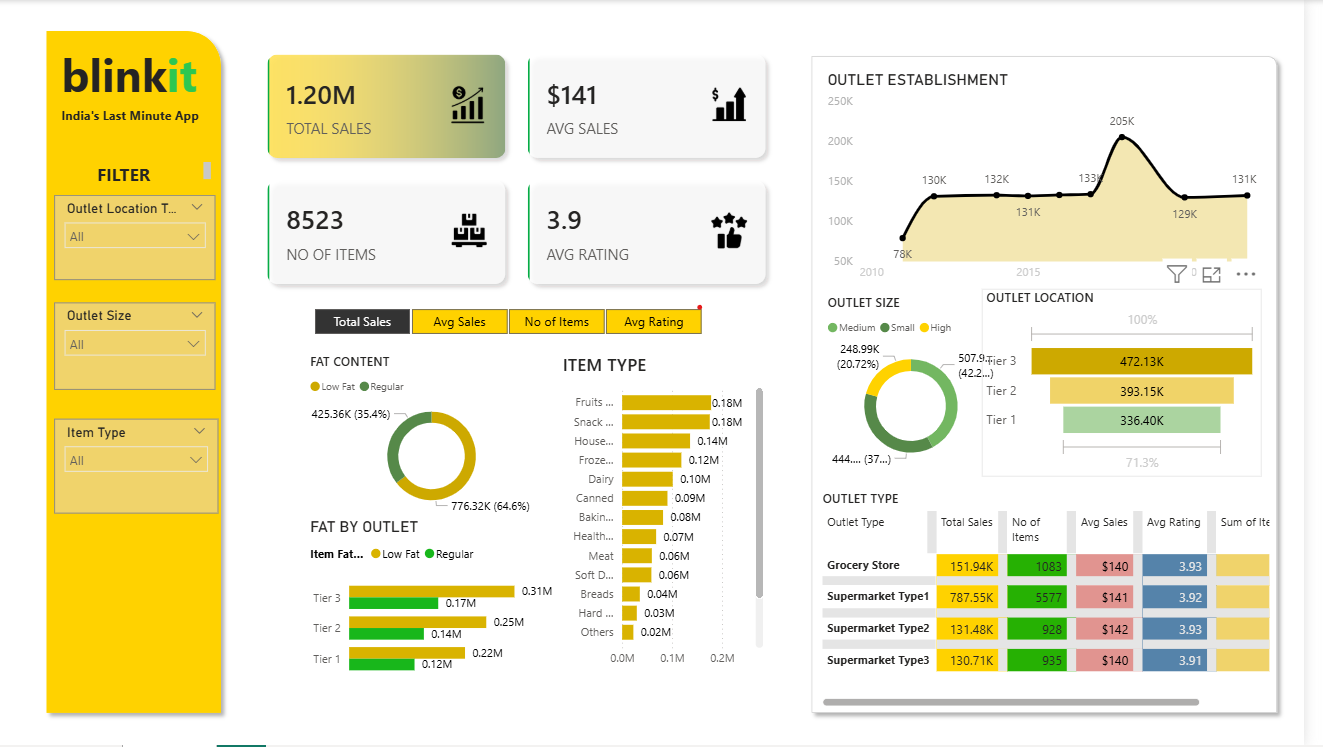

The page's visual inventory and layout, read from the dashboard file:
{"tool":"powerbi","page":{"name":"Page 1","canvas":[1400,800],"ordinal":0},"visuals":[{"type":"shape","box":[42.9,24.1,205.1,749.3],"z":0},{"type":"textbox","box":[63,41.6,172.9,115.3],"z":1000},{"type":"textbox","box":[63,109.9,172.9,30.8],"z":2000},{"type":"cardVisual","fields":{"Data":["BlinkIT Grocery Data.Total Sales","BlinkIT Grocery Data.Avg Sales","BlinkIT Grocery Data.No of Items","BlinkIT Grocery Data.Avg Rating"]},"box":[272.1,41.6,569.7,281.5],"z":3000},{"type":"shape","box":[272,324,554,40],"z":4000},{"type":"donutChart","title":"FAT CONTENT","fields":{"Y":["BlinkIT Grocery Data.Total Sales"],"Category":["BlinkIT Grocery Data.Item Fat Content"]},"box":[329.8,378,270.8,176.9],"z":5000},{"type":"slicer","fields":{"Values":["Metrics.Metrics"]},"box":[313.7,324.4,465,40],"z":6000},{"type":"clusteredBarChart","title":"FAT BY OUTLET","fields":{"Y":["BlinkIT Grocery Data.Total Sales"],"Category":["BlinkIT Grocery Data.Outlet Location Type"],"Series":["BlinkIT Grocery Data.Item Fat Content"]},"box":[329.8,555,272.1,183.6],"z":7000},{"type":"barChart","title":"ITEM TYPE","fields":{"Y":["BlinkIT Grocery Data.Total Sales"],"Category":["BlinkIT Grocery Data.Item Type"]},"box":[600.5,378,225.2,345.8],"z":8000},{"type":"shape","box":[863.3,50.9,517.4,722.5],"z":9000},{"type":"lineChart","title":"OUTLET ESTABLISHMENT","fields":{"Category":["BlinkIT Grocery Data.Outlet Establishment Year"],"Y":["BlinkIT Grocery Data.Total Sales"]},"box":[884.7,75.1,473.2,234.6],"z":10000},{"type":"donutChart","title":"OUTLET SIZE","fields":{"Y":["BlinkIT Grocery Data.Total Sales"],"Category":["BlinkIT Grocery Data.Outlet Size"]},"box":[884.7,315,189,195.7],"z":11000},{"type":"funnel","title":"OUTLET LOCATION","fields":{"Category":["BlinkIT Grocery Data.Outlet Location Type"],"Y":["Sum(BlinkIT Grocery Data.Sales)"]},"box":[1055,309.7,300.3,201.1],"z":12000},{"type":"pivotTable","title":"OUTLET TYPE","fields":{"Rows":["BlinkIT Grocery Data.Outlet Type"],"Values":["BlinkIT Grocery Data.Total Sales","BlinkIT Grocery Data.No of Items","BlinkIT Grocery Data.Avg Sales","BlinkIT Grocery Data.Avg Rating","Sum(BlinkIT Grocery Data.Item Visibility)"]},"box":[879.4,525.5,489.3,237.3],"z":13000},{"type":"slicer","fields":{"Values":["BlinkIT Grocery Data.Outlet Location Type"]},"box":[60.3,209.1,172.9,91.2],"z":14000},{"type":"slicer","fields":{"Values":["BlinkIT Grocery Data.Outlet Size"]},"box":[60.3,324.4,172.9,93.8],"z":15000},{"type":"slicer","fields":{"Values":["BlinkIT Grocery Data.Item Type"]},"box":[60.3,449.1,175.6,101.9],"z":16000},{"type":"textbox","box":[101.9,168.9,131.4,40.2],"z":17000}]}

Visuals, with their boxes in screenshot pixels (x1, y1, x2, y2), scaled from the page's 1400x800 canvas onto the 1323x747 screenshot:
shape: (left=41, top=23, right=234, bottom=722)
textbox: (left=60, top=39, right=223, bottom=147)
textbox: (left=60, top=103, right=223, bottom=131)
cardVisual - BlinkIT Grocery Data.Total Sales x BlinkIT Grocery Data.Avg Sales: (left=257, top=39, right=796, bottom=302)
shape: (left=257, top=303, right=781, bottom=340)
"FAT CONTENT" donutChart: (left=312, top=353, right=568, bottom=518)
slicer - Metrics.Metrics: (left=296, top=303, right=736, bottom=340)
"FAT BY OUTLET" clusteredBarChart: (left=312, top=518, right=569, bottom=690)
"ITEM TYPE" barChart: (left=567, top=353, right=780, bottom=676)
shape: (left=816, top=48, right=1305, bottom=722)
"OUTLET ESTABLISHMENT" lineChart: (left=836, top=70, right=1283, bottom=289)
"OUTLET SIZE" donutChart: (left=836, top=294, right=1015, bottom=477)
"OUTLET LOCATION" funnel: (left=997, top=289, right=1281, bottom=477)
"OUTLET TYPE" pivotTable: (left=831, top=491, right=1293, bottom=712)
slicer - BlinkIT Grocery Data.Outlet Location Type: (left=57, top=195, right=220, bottom=280)
slicer - BlinkIT Grocery Data.Outlet Size: (left=57, top=303, right=220, bottom=390)
slicer - BlinkIT Grocery Data.Item Type: (left=57, top=419, right=223, bottom=514)
textbox: (left=96, top=158, right=220, bottom=195)
